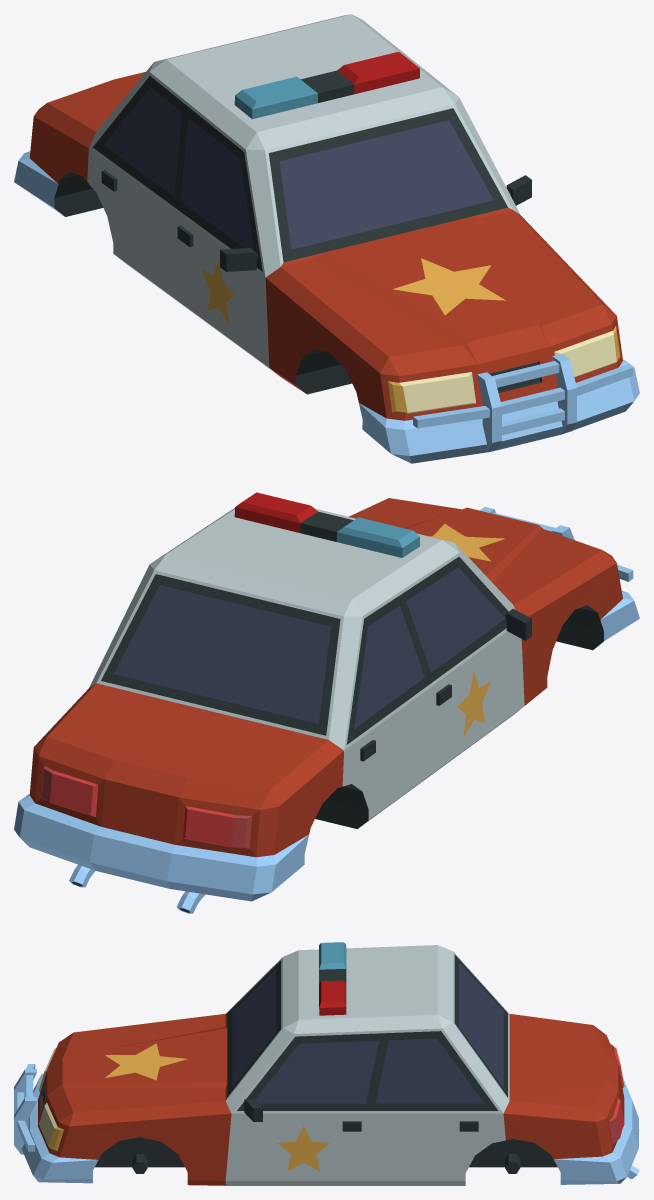
The model's file is Police.fbx.
3 views of the same model, one above another, from view 1: azimuth 30°, elevation 25°; view 2: azimuth 150°, elevation 25°; view 3: azimuth 270°, elevation 25° (orthographic). The views are drawn at different scales.
Parts seen in each view (by area): view 1: Police; view 2: Police; view 3: Police.
Part boxes in pixels (x1,y1,x2,y2): Police: [14, 14, 639, 463]; Police: [14, 492, 639, 913]; Police: [14, 942, 639, 1185].
Bounding box in the file's own units: 173 × 132 × 399.
